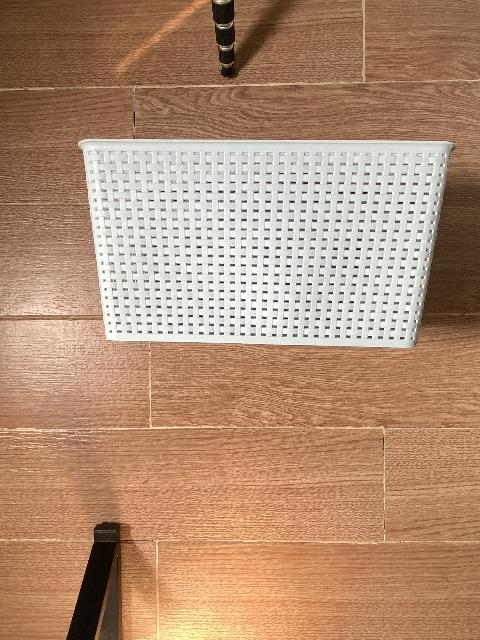cart: (78, 139, 454, 351)
